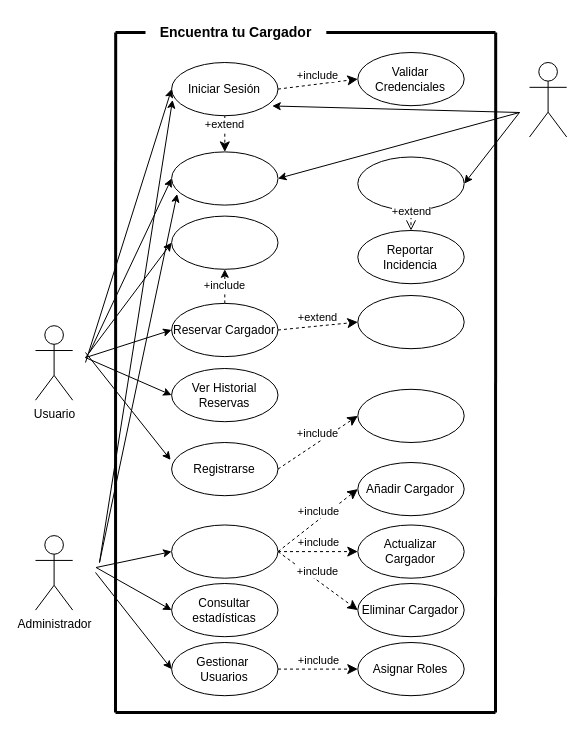
The diagram is 586 pixels wide and 733 high, and some of its shapes have lost their labels. The shapes that lost their labels are listed below. From the top down, each one's centre as x and y in pixels, then its label:
the point at 547,99: Técnico
the point at 224,178: Cerrar Sesión
the point at 410,183: Actualizar Estado Cargador
the point at 224,242: Buscar Cargadores
the point at 410,321: Cancelar Reserva
the point at 410,415: Crear Cuenta
the point at 224,551: Gestionar Cargadores
